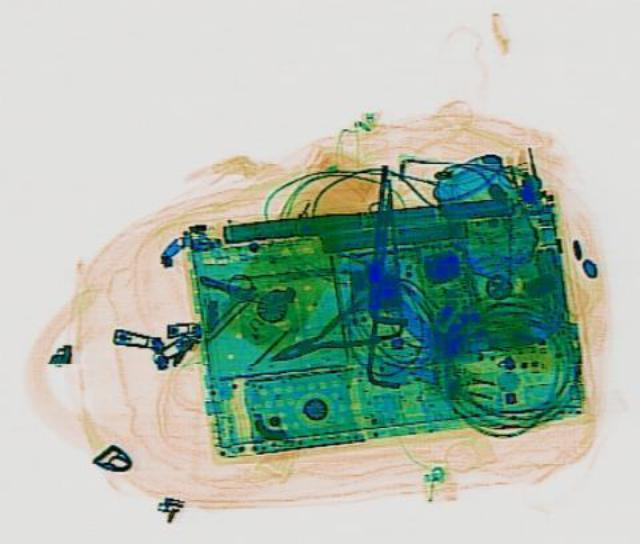Pliers: (252, 292, 393, 380)
